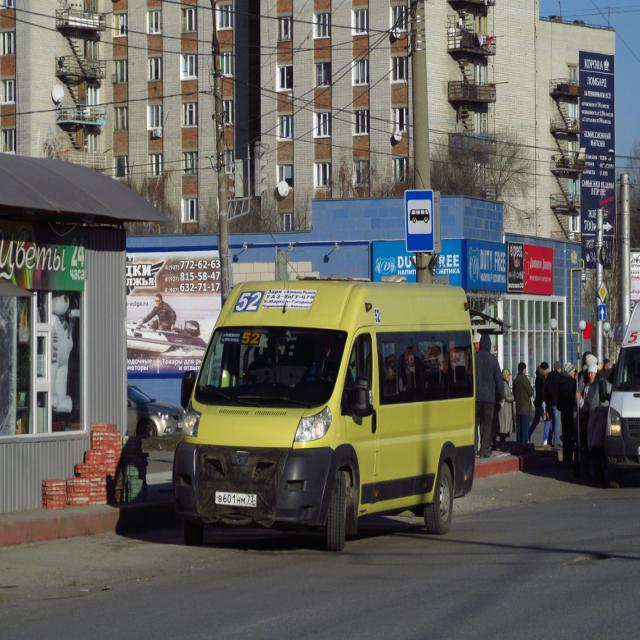number-of-bus: (236, 294, 264, 314)
